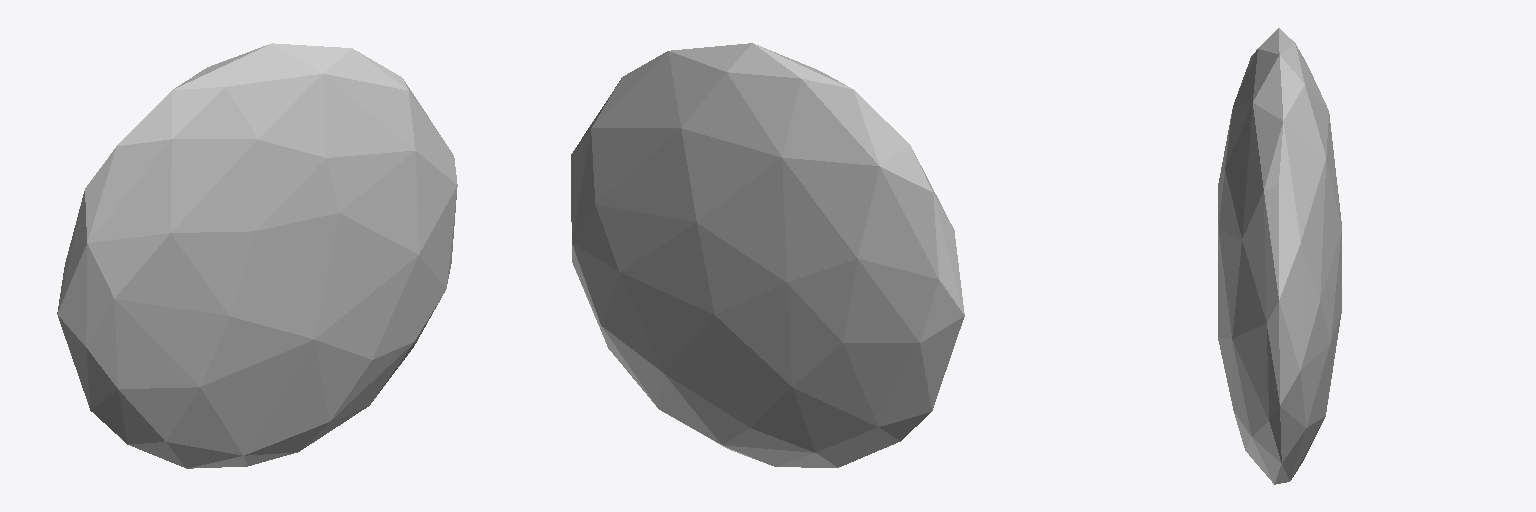
File: lens.obj
3 views of the same model, side by side, from view 1: azimuth 30°, elevation 25°; view 2: azimuth 150°, elevation 25°; view 3: azimuth 270°, elevation 25° (orthographic).
Visible parts, largest first — view 1: Sphere.001; view 2: Sphere.001; view 3: Sphere.001.
Part boxes in pixels (left/top/right/bottom): Sphere.001: left=57, top=43, right=457, bottom=468; Sphere.001: left=571, top=43, right=964, bottom=467; Sphere.001: left=1218, top=28, right=1341, bottom=484.
Size of the model in its own units: 1.98 by 2 by 0.5403.